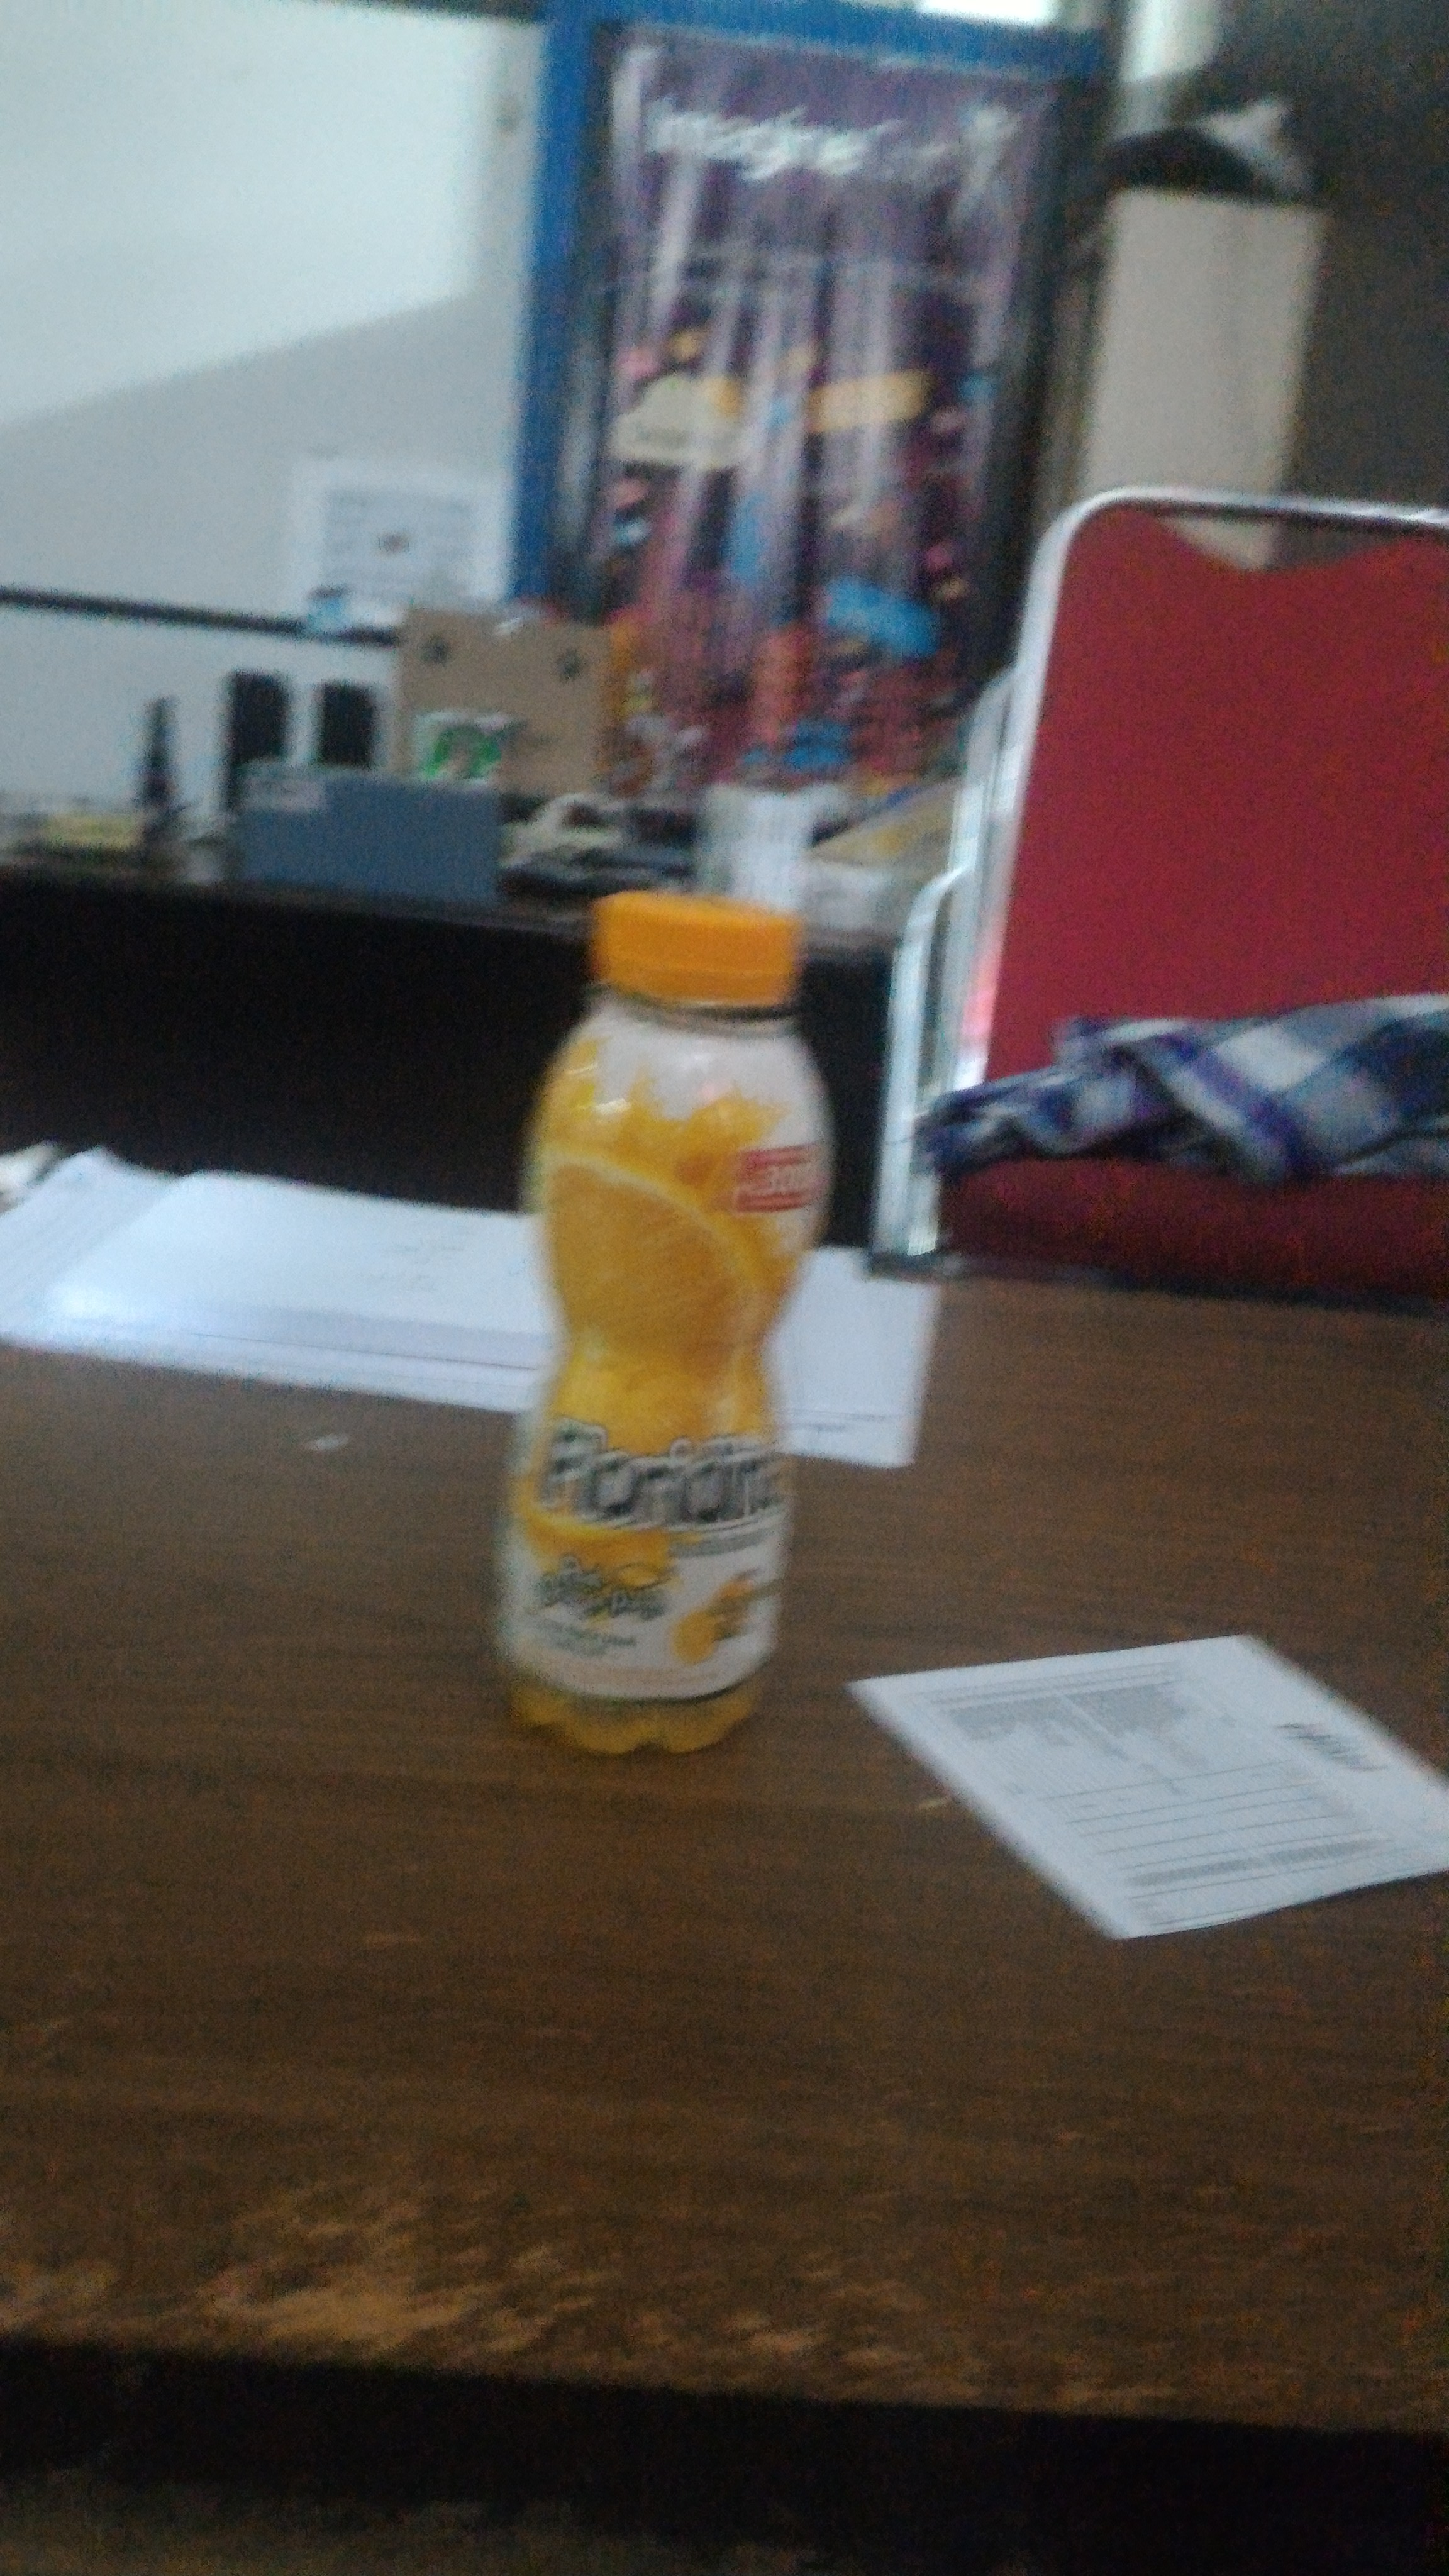botol: (487, 885, 833, 1750), (487, 897, 833, 1750), (527, 897, 833, 1750)
